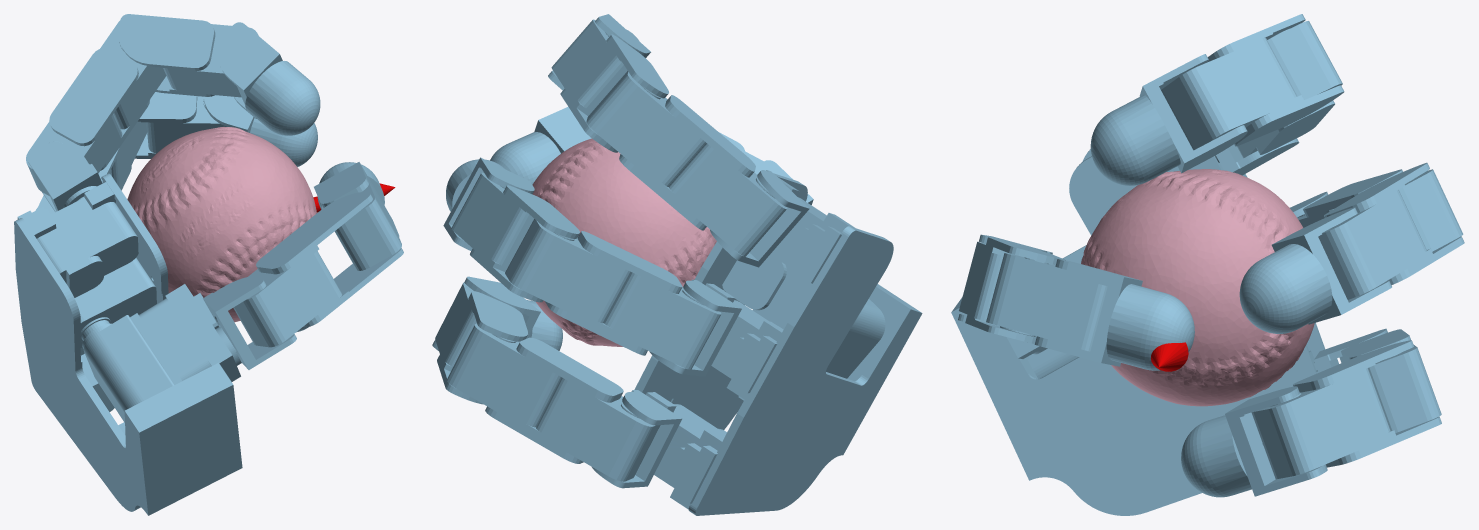
3 renders of one model, left to right at view 1: azimuth 30°, elevation 25°; view 2: azimuth 150°, elevation 25°; view 3: azimuth 270°, elevation 25°, orthographic. The views are drawn at different scales.
Parts seen in each view (by area): view 1: world, baseball.stl; view 2: world, baseball.stl; view 3: world, baseball.stl.
Part boxes in pixels (x1,y1,x2,y2): world: [14, 14, 403, 515]; baseball.stl: [127, 127, 316, 322]; world: [432, 14, 922, 515]; baseball.stl: [532, 138, 716, 346]; world: [951, 14, 1464, 515]; baseball.stl: [1081, 169, 1314, 406].
Bounding box in the file's own units: 0.1588 × 0.178 × 0.1561.
